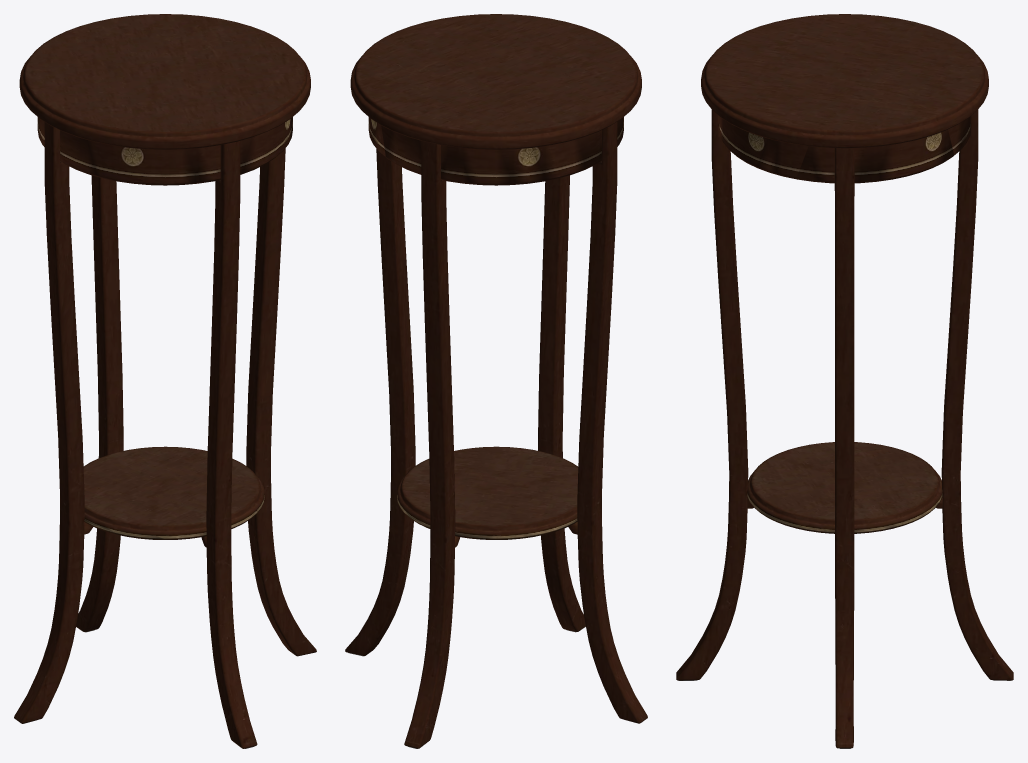
The model's file is side_table_tall_01.glb.
The picture shows the model from 3 angles, left to right: view 1: azimuth 30°, elevation 25°; view 2: azimuth 150°, elevation 25°; view 3: azimuth 270°, elevation 25°; orthographic projection.
Parts seen in each view (by area): view 1: side_table_tall_01; view 2: side_table_tall_01; view 3: side_table_tall_01.
Part boxes in pixels (bbox=[...]): side_table_tall_01: bbox=[14, 14, 316, 748]; side_table_tall_01: bbox=[345, 14, 647, 748]; side_table_tall_01: bbox=[676, 14, 1013, 748].
Size of the model in its own units: 0.384 by 0.7612 by 0.384.
Materials: 1 (1 with a texture image).
